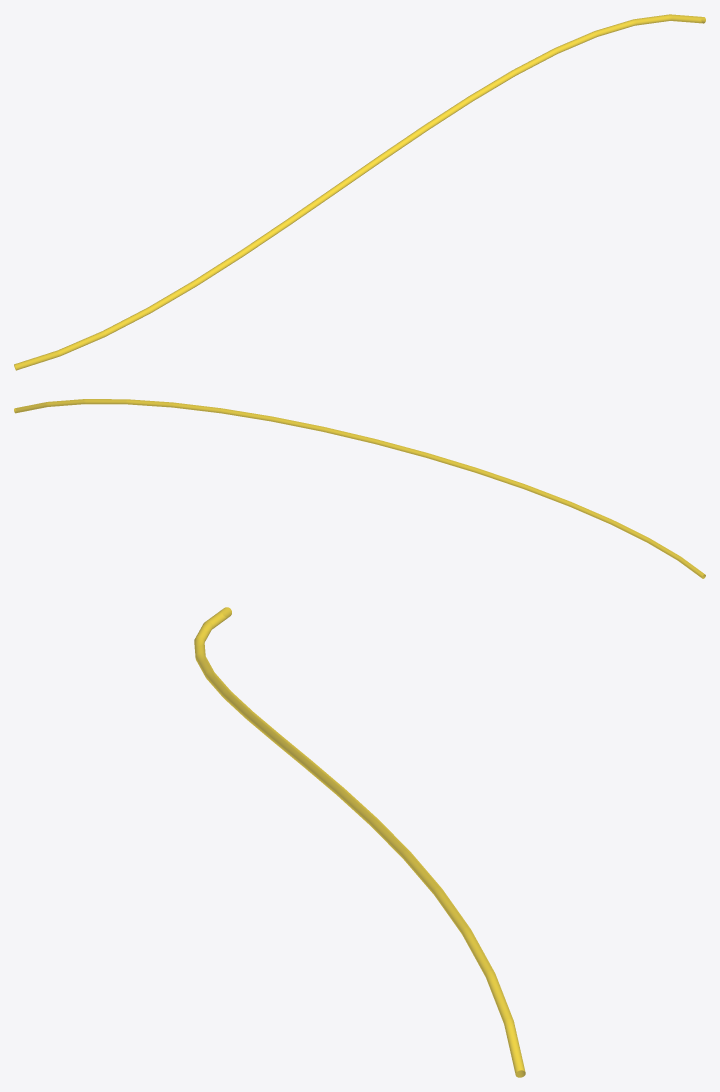
The model's file is Event_31209032_track_46.fbx.
3 renders of one model, top to bottom at view 1: azimuth 30°, elevation 25°; view 2: azimuth 150°, elevation 25°; view 3: azimuth 270°, elevation 25°, orthographic. The views are drawn at different scales.
Visible parts, largest first — view 1: Model; view 2: Model; view 3: Model.
Boxes of the visible parts, x1=… form: Model: x1=14, y1=14, x2=705, y2=370; Model: x1=14, y1=399, x2=705, y2=578; Model: x1=194, y1=607, x2=525, y2=1077.
Size of the model in its own units: 5.5 by 0.8361 by 1.28.
